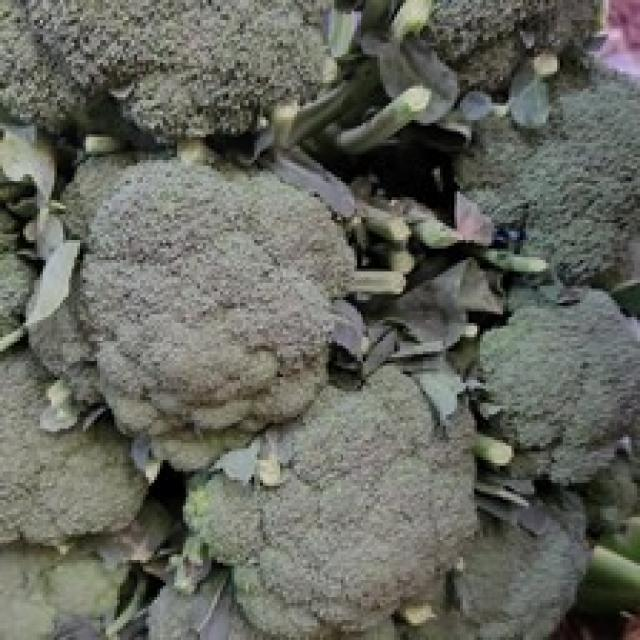Broccoli: (39, 159, 353, 470), (186, 366, 456, 639), (0, 0, 332, 148), (461, 57, 639, 329), (0, 343, 146, 639), (477, 289, 639, 485), (395, 498, 590, 639)
